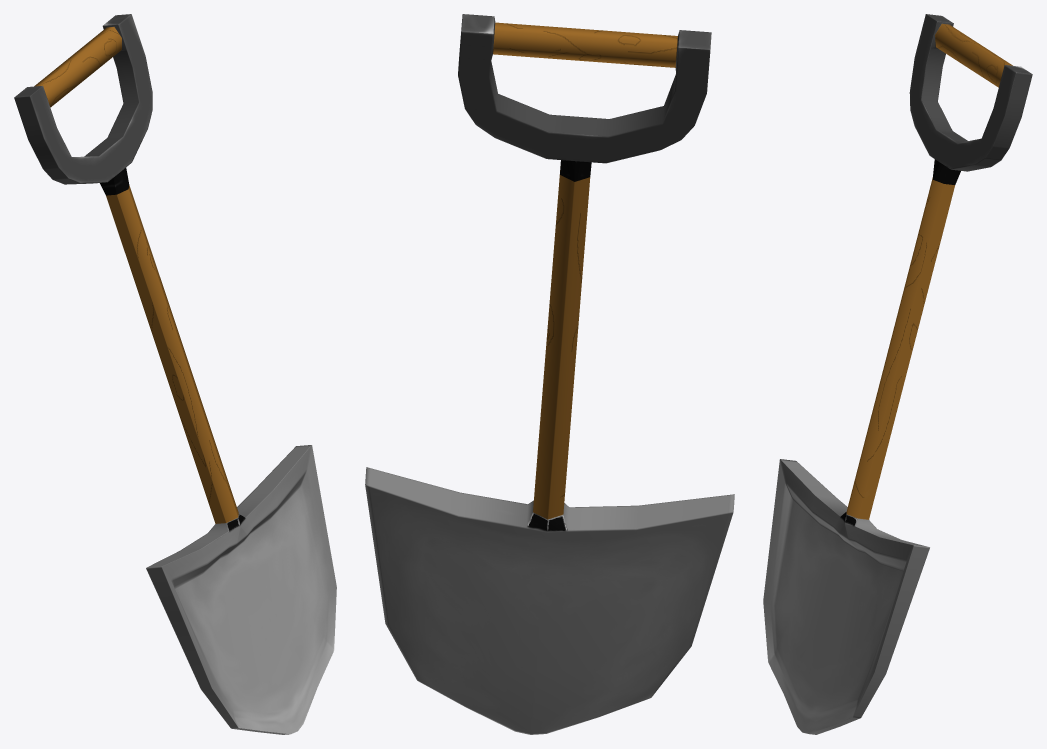
The model's file is Shovel_Complete_Model.dae.
3 renders of one model, left to right at view 1: azimuth 30°, elevation 25°; view 2: azimuth 150°, elevation 25°; view 3: azimuth 270°, elevation 25°, orthographic. The views are drawn at different scales.
Visible parts, largest first — view 1: Cube; view 2: Cube; view 3: Cube.
Part boxes in pixels (box(x1,y1,x2,y2)): Cube: box(14, 14, 336, 734); Cube: box(365, 14, 734, 734); Cube: box(763, 14, 1032, 734).
Bounding box in the file's own units: 2.05 × 1.71 × 4.44.
1 material, 1 textured.
